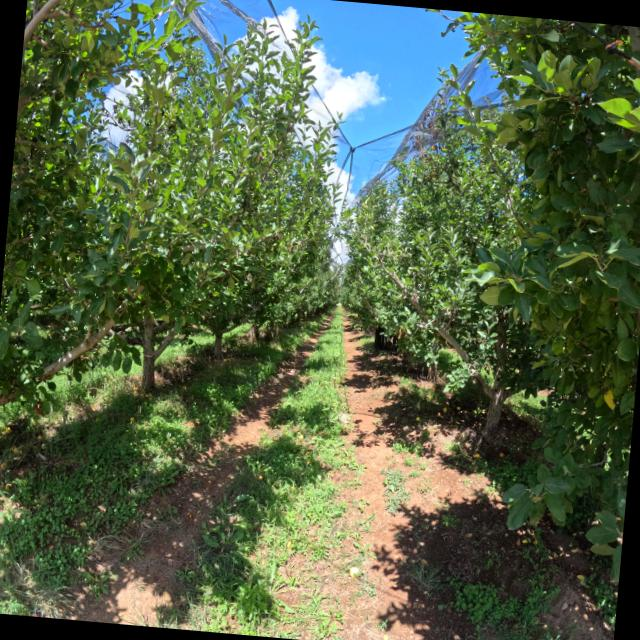-FireBlight-: (397, 327, 408, 340)
